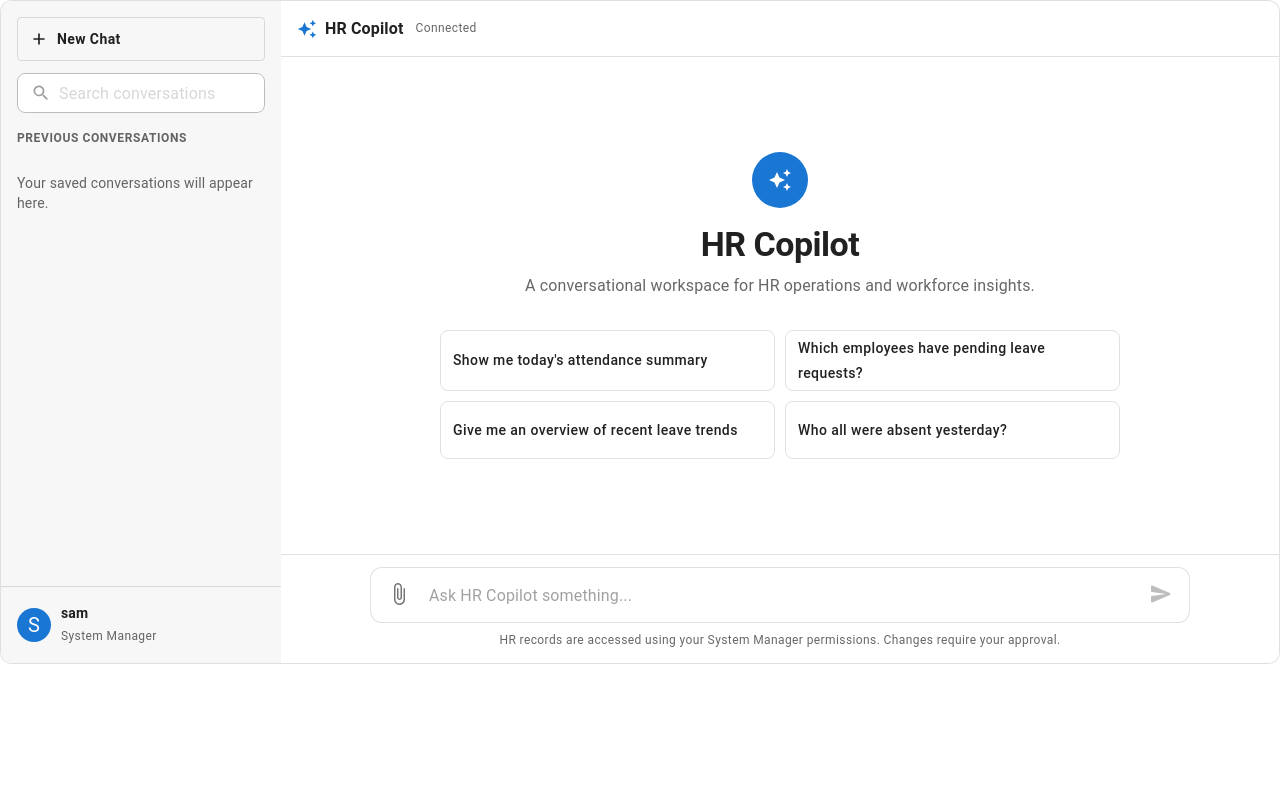
Test: shows a recoverable error when the HR assistant request is rejected
Type "Show my leave balance" into the text box with placeholder "Ask HR Copilot something..." at (780, 596), box [429,584,1131,607]
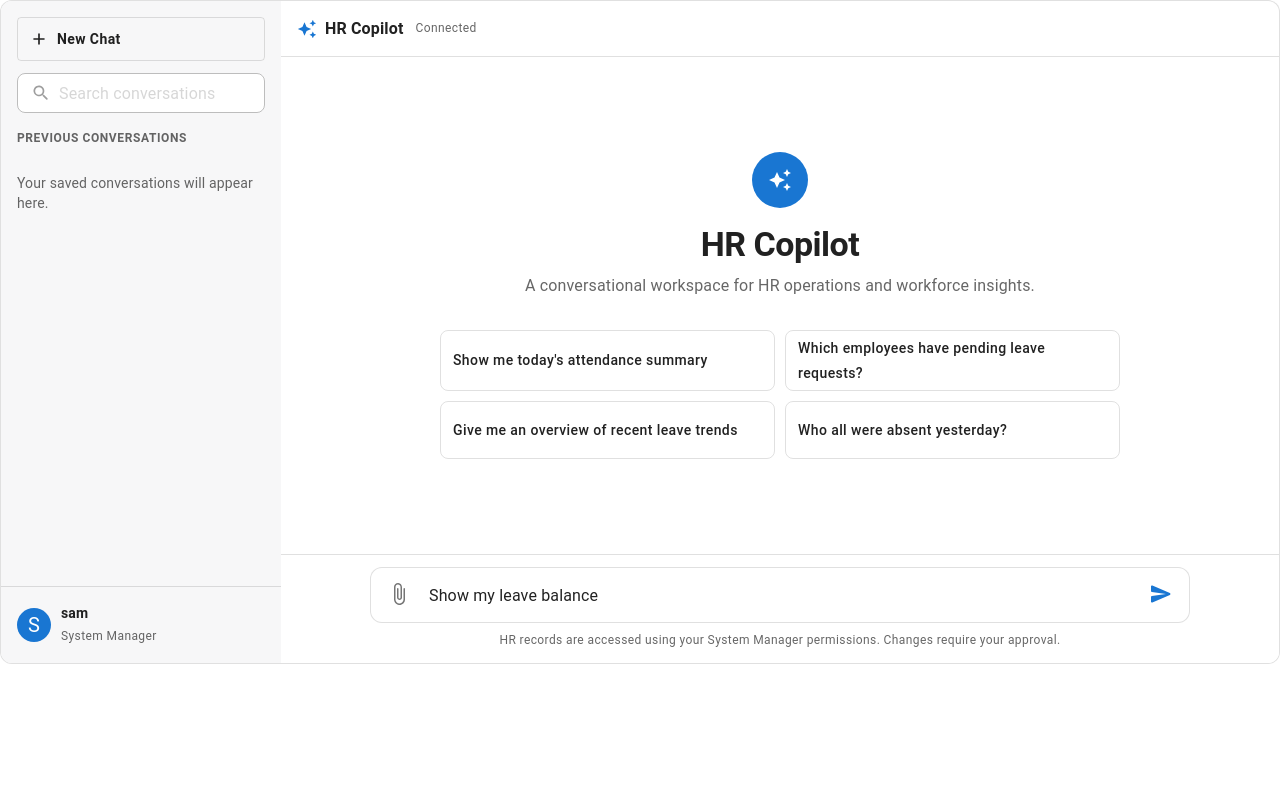
Click the button named "Send message" at (1161, 594), box [1141,574,1181,614]
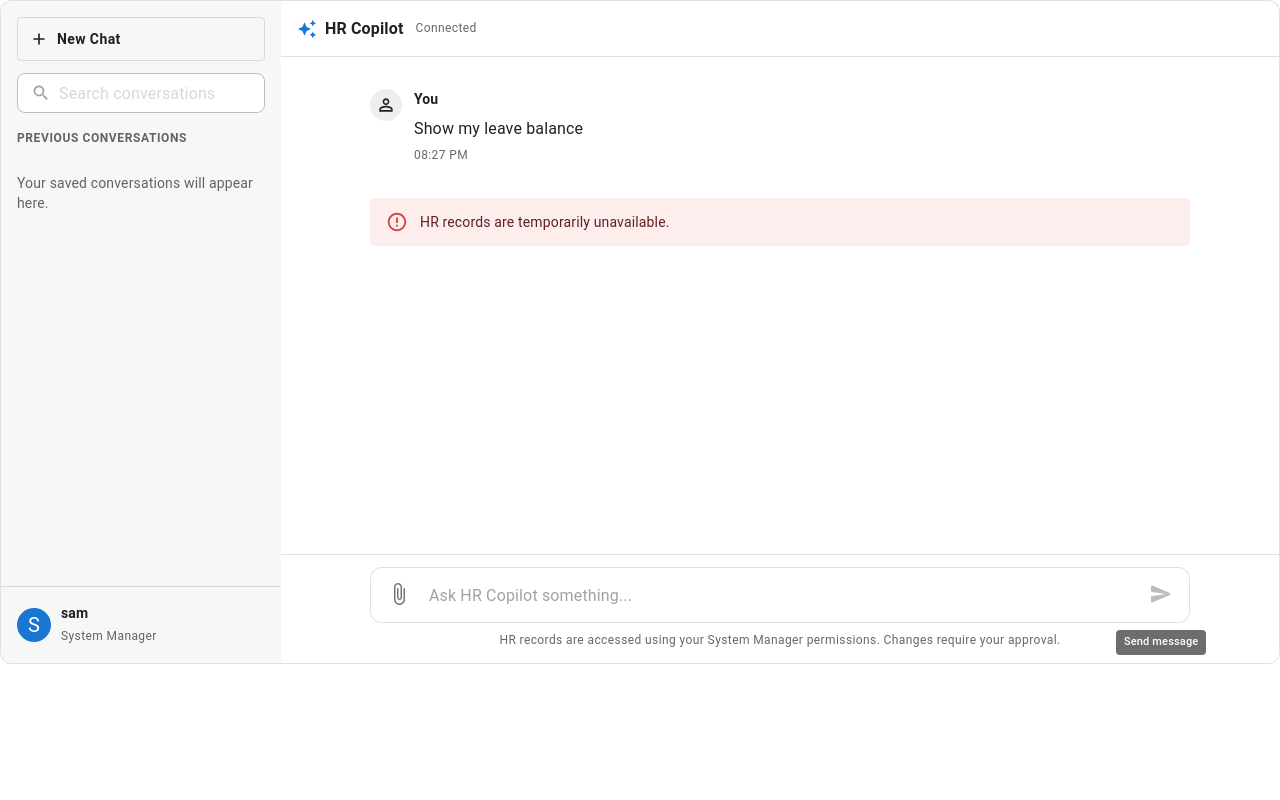
Expected: the text "HR records are temporarily unavailable." is shown, [420,214,670,230]
Expected: the text "Show my leave balance" is shown, [414,119,583,138]
